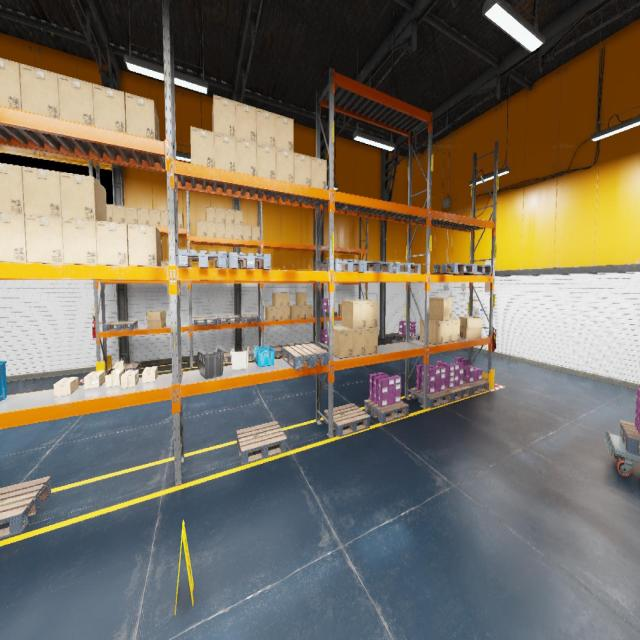box: (60, 172, 107, 221), (20, 63, 60, 118), (22, 166, 62, 217), (24, 215, 64, 263), (58, 74, 94, 125), (125, 92, 159, 140), (62, 218, 97, 264), (93, 84, 126, 132), (95, 220, 128, 266), (127, 223, 161, 266), (0, 212, 27, 262), (0, 162, 24, 214), (0, 58, 22, 110), (212, 94, 236, 138), (190, 126, 214, 167), (214, 133, 236, 172), (236, 101, 256, 143), (256, 108, 276, 147), (236, 138, 257, 175), (342, 300, 366, 329), (257, 143, 276, 179), (276, 114, 294, 152), (333, 326, 353, 358), (276, 148, 294, 183), (294, 152, 311, 186), (420, 319, 443, 344), (359, 299, 378, 328), (429, 297, 452, 320), (311, 156, 327, 189), (105, 360, 124, 387), (459, 316, 482, 338), (54, 376, 78, 396), (432, 319, 452, 342), (84, 370, 105, 389), (353, 328, 366, 356), (146, 310, 166, 328), (120, 370, 138, 388), (366, 327, 378, 354), (112, 204, 125, 223), (142, 366, 157, 382), (451, 318, 460, 342), (149, 208, 161, 226), (125, 206, 137, 224), (137, 208, 149, 225), (196, 220, 206, 237), (206, 222, 216, 237), (225, 223, 234, 239), (234, 224, 243, 240), (206, 206, 215, 222), (216, 222, 225, 238), (265, 306, 275, 320), (224, 209, 233, 224), (296, 292, 306, 305), (272, 293, 282, 306), (160, 210, 168, 226), (216, 207, 224, 223), (290, 305, 299, 319), (234, 210, 243, 224), (243, 225, 251, 240), (251, 227, 260, 240), (282, 306, 290, 320), (106, 204, 112, 222), (306, 304, 313, 318), (299, 306, 306, 318), (276, 306, 282, 320), (178, 212, 183, 228), (283, 293, 289, 306), (338, 304, 342, 316), (161, 261, 169, 266), (161, 245, 162, 260)
pallets: (0, 476, 51, 539), (236, 420, 287, 464), (324, 403, 370, 437), (282, 343, 328, 370), (364, 399, 408, 423), (177, 249, 227, 268), (411, 388, 452, 408), (227, 252, 271, 269), (620, 420, 640, 455), (320, 259, 364, 272), (444, 384, 472, 401), (434, 263, 474, 274), (356, 260, 392, 272), (463, 380, 489, 396), (107, 362, 140, 373), (456, 264, 492, 274), (103, 321, 138, 331), (392, 263, 421, 273), (194, 316, 217, 326), (217, 315, 240, 324), (395, 334, 418, 342), (240, 314, 260, 323), (238, 349, 254, 360), (223, 351, 237, 363), (272, 347, 282, 356), (321, 312, 337, 317), (321, 342, 328, 350)
